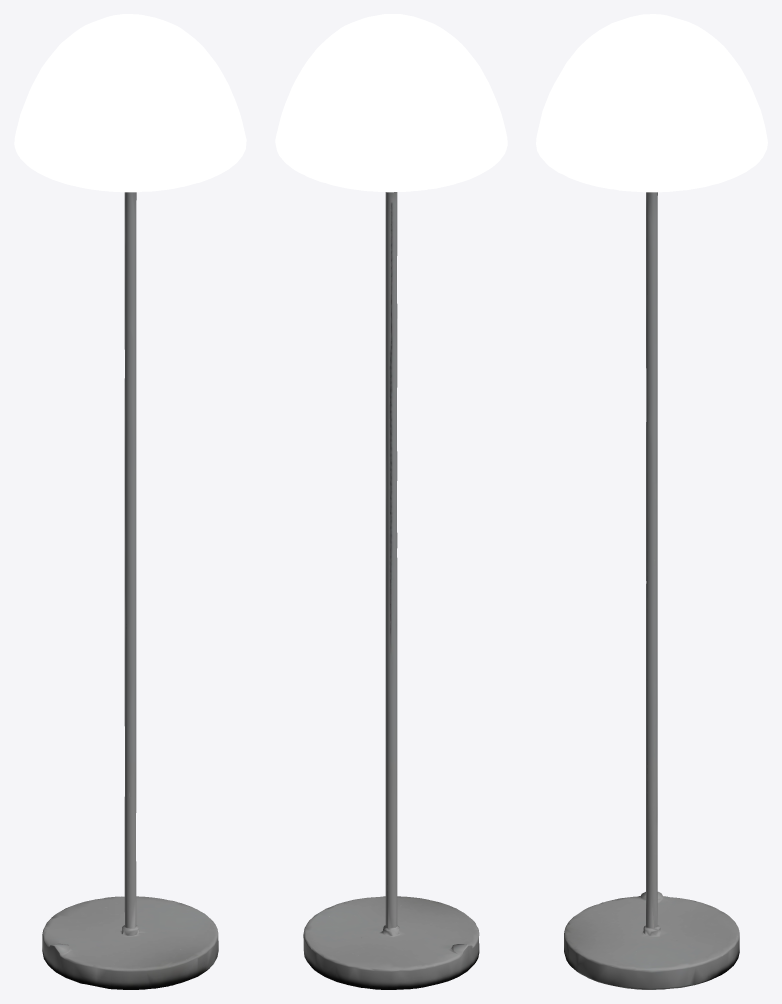
File: bauhaus-floor-lamp.glb
3 views of the same model, side by side, from view 1: azimuth 30°, elevation 25°; view 2: azimuth 150°, elevation 25°; view 3: azimuth 270°, elevation 25° (orthographic).
Parts seen in each view (by area): view 1: world; view 2: world; view 3: world.
Boxes of the visible parts, box(x1,y1,x2,y2) form: world: box(14, 14, 246, 989); world: box(275, 14, 507, 989); world: box(536, 14, 767, 989).
Bounding box in the file's own units: 0.35 × 1.55 × 0.35.
2 materials, 1 textured.
